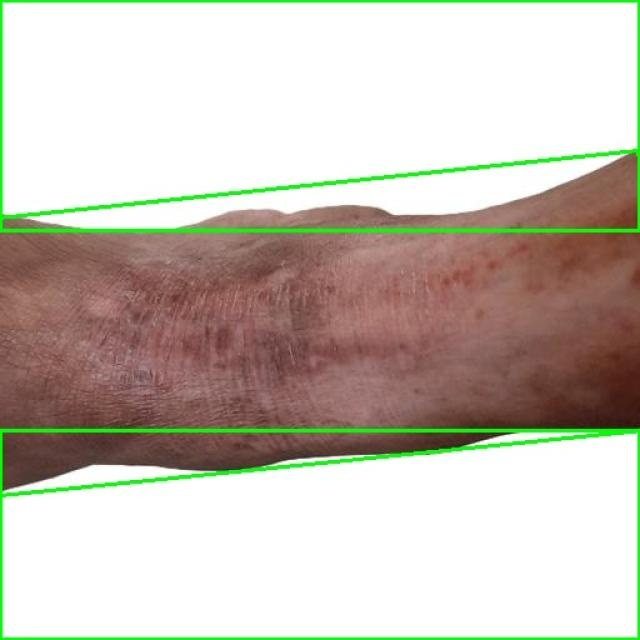Eczema: (0, 151, 640, 496), (0, 0, 639, 230), (0, 430, 639, 639)
